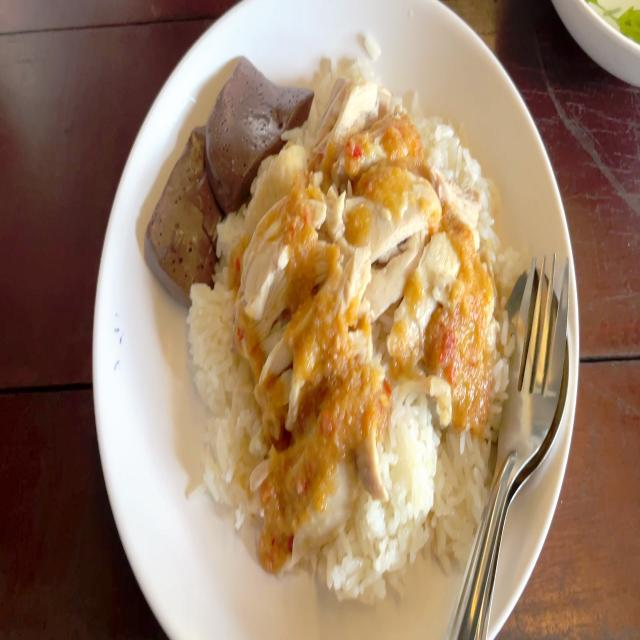boiled_chicken: (251, 130, 475, 460)
boiled_chicken_blood_jelly: (205, 54, 300, 196), (144, 136, 223, 283)
chicken_rice: (164, 32, 526, 583)
